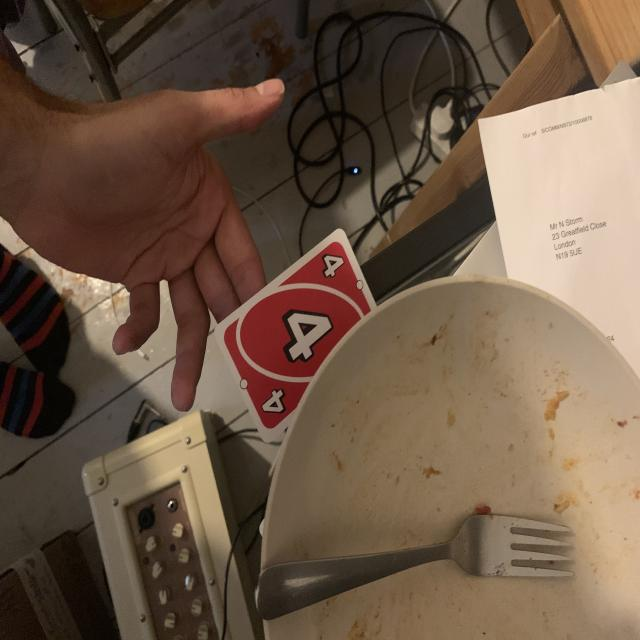lred-4: (316, 248, 346, 283)
